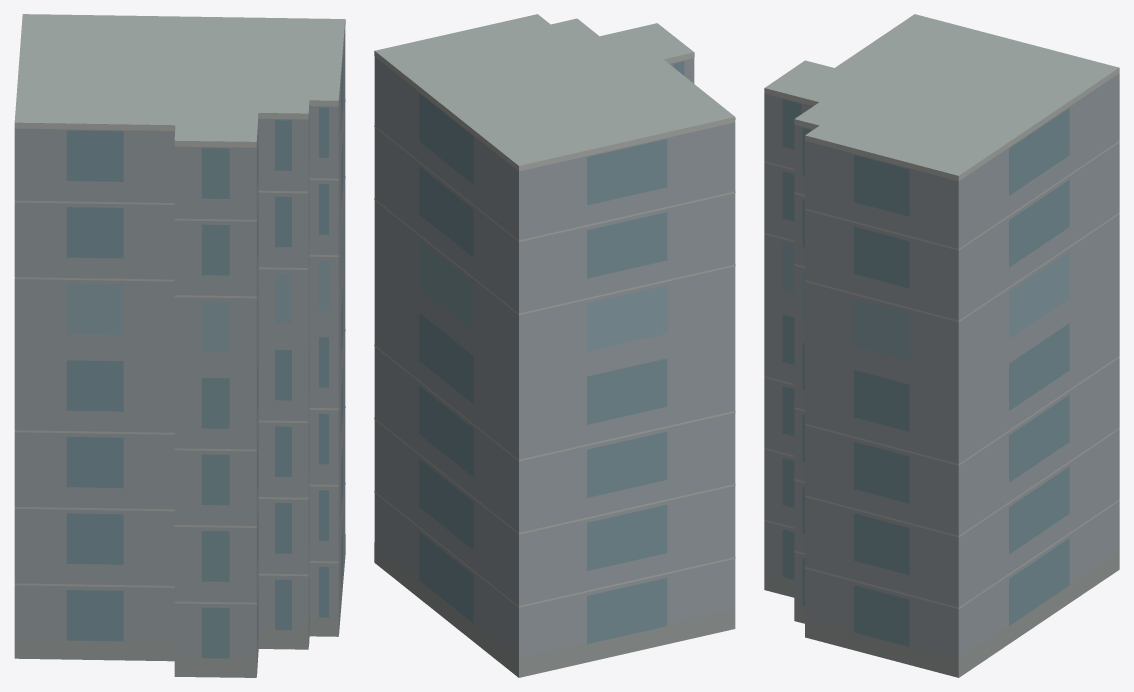
The model's file is survey-upis-32976250.glb.
3 renders of one model, left to right at view 1: azimuth 30°, elevation 25°; view 2: azimuth 150°, elevation 25°; view 3: azimuth 270°, elevation 25°, orthographic. The views are drawn at different scales.
Parts seen in each view (by area): view 1: survey-upis-32976250.tmp; view 2: survey-upis-32976250.tmp; view 3: survey-upis-32976250.tmp.
Part boxes in pixels (bbox=[...]): survey-upis-32976250.tmp: bbox=[14, 14, 345, 677]; survey-upis-32976250.tmp: bbox=[374, 14, 735, 677]; survey-upis-32976250.tmp: bbox=[764, 14, 1119, 677].
Bounding box in the file's own units: 15.52 × 22.4 × 14.38.
